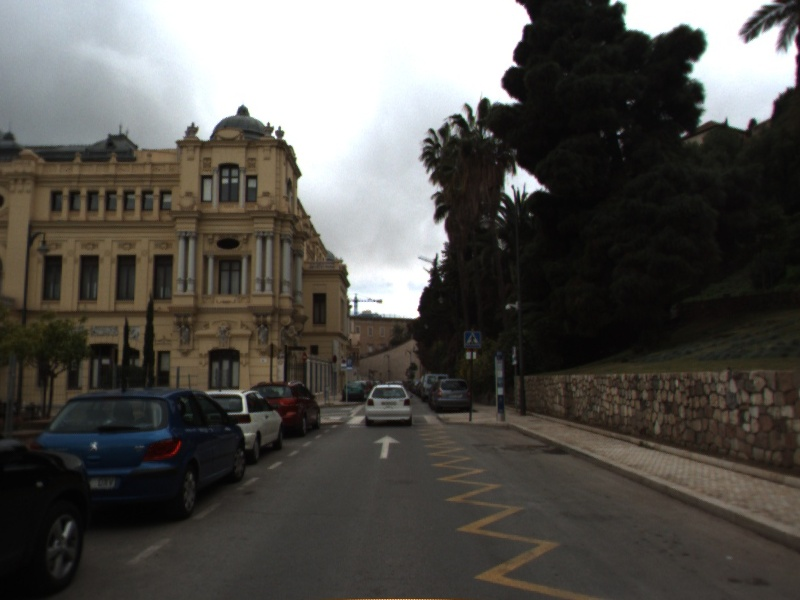STRAIGHT: (371, 433, 403, 460)
